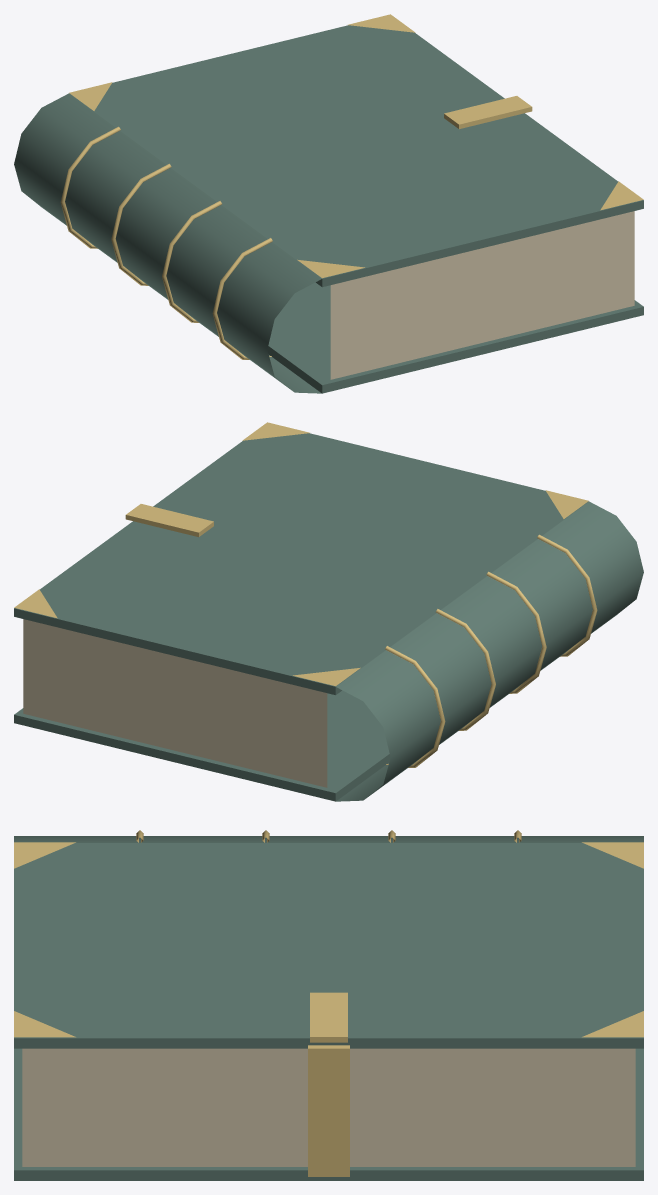
Rendered from TomeLarge.fbx.
3 renders of one model, top to bottom at view 1: azimuth 30°, elevation 25°; view 2: azimuth 150°, elevation 25°; view 3: azimuth 270°, elevation 25°, orthographic. The views are drawn at different scales.
Visible parts, largest first — view 1: TomeLarge; view 2: TomeLarge; view 3: TomeLarge.
Part boxes in pixels (<box>): TomeLarge: <box>14,14,643,393</box>; TomeLarge: <box>14,422,643,801</box>; TomeLarge: <box>14,830,643,1180</box>.
Size of the model in its own units: 0.3555 by 0.1082 by 0.402.
